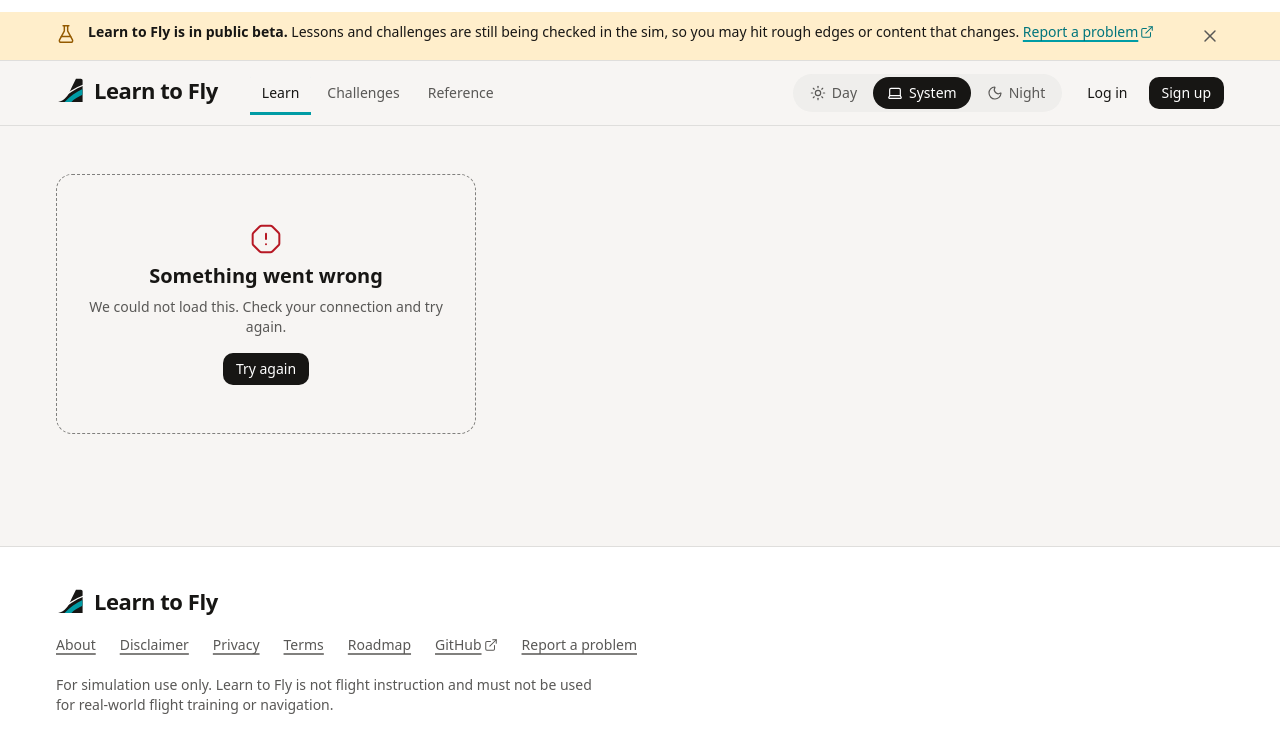
Scenario: curriculum pages › shows an error with a retry
Click the button "Try again".
click(266, 369)  # box [223,353,309,385]
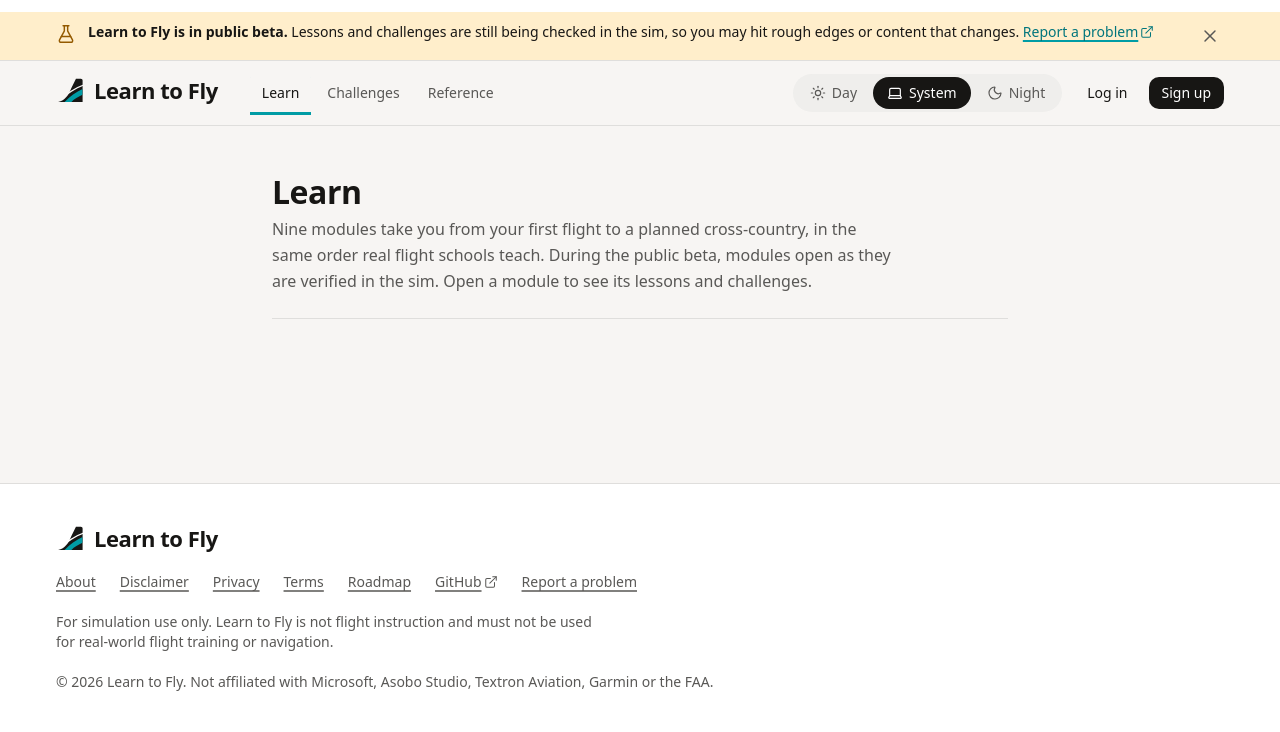
Check: the heading "Learn" is shown, box [272,170,362,213]
